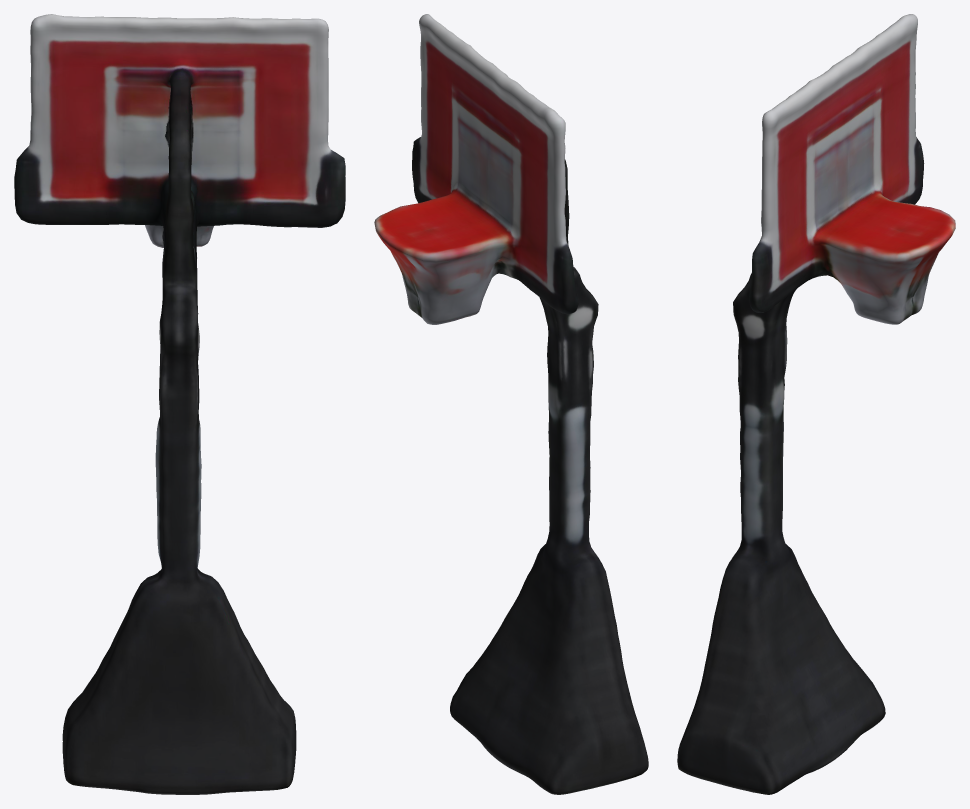
Rendered from basketball-hoop.obj.
3 views of the same model, side by side, from view 1: azimuth 30°, elevation 25°; view 2: azimuth 150°, elevation 25°; view 3: azimuth 270°, elevation 25° (orthographic). The views are drawn at different scales.
Parts seen in each view (by area): view 1: basketball_hoop1:Mesh; view 2: basketball_hoop1:Mesh; view 3: basketball_hoop1:Mesh.
Boxes of the visible parts, x1,y1,x2,y2 form: basketball_hoop1:Mesh: (14, 14, 345, 794); basketball_hoop1:Mesh: (374, 14, 648, 794); basketball_hoop1:Mesh: (677, 14, 955, 794).
Bounding box in the file's own units: 1.79 × 4.77 × 1.71.
1 material, 1 textured.
